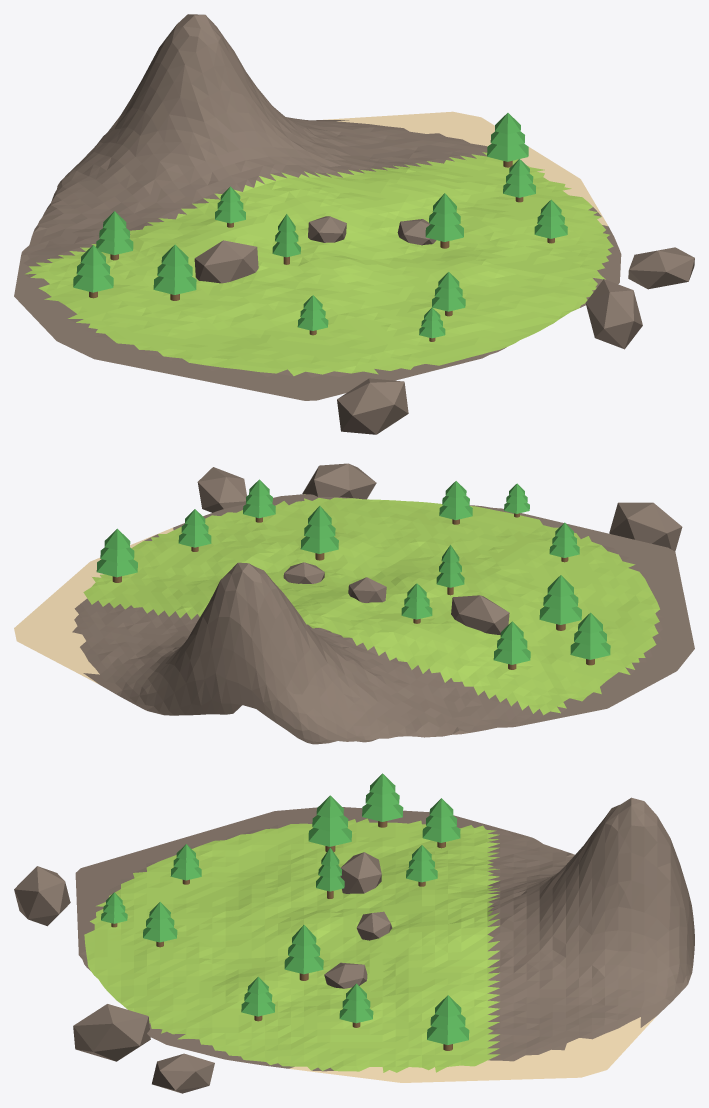
3 renders of one model, top to bottom at view 1: azimuth 30°, elevation 25°; view 2: azimuth 150°, elevation 25°; view 3: azimuth 270°, elevation 25°, orthographic. The views are drawn at different scales.
Parts seen in each view (by area): view 1: Island, CoastBoulder_01, CoastBoulder_03, CoastBoulder_00, CoastBoulder_04, TreeA_09, TreeA_108, TreeA_109, TreeA_14, TreeA_110, TreeA_106, TreeA_104 (+6 smaller); view 2: Island, CoastBoulder_01, CoastBoulder_03, CoastBoulder_00, CoastBoulder_04, TreeA_09, TreeA_108, TreeA_109, TreeA_14, TreeA_110, TreeA_106, TreeA_100 (+7 smaller); view 3: Island, CoastBoulder_03, CoastBoulder_01, CoastBoulder_04, TreeA_09, TreeA_108, TreeA_109, TreeA_14, CoastBoulder_00, TreeA_110, TreeA_106, TreeA_104 (+7 smaller).
Boxes of the visible parts, <box> form: Island: <box>14,14,621,400</box>; CoastBoulder_01: <box>337,378,408,434</box>; CoastBoulder_03: <box>585,279,642,349</box>; CoastBoulder_00: <box>194,240,258,283</box>; CoastBoulder_04: <box>628,247,694,289</box>; TreeA_09: <box>153,244,196,300</box>; TreeA_108: <box>487,113,528,167</box>; TreeA_109: <box>73,245,113,298</box>; TreeA_14: <box>425,193,463,248</box>; TreeA_110: <box>96,211,133,260</box>; TreeA_106: <box>432,272,465,316</box>; TreeA_104: <box>534,199,567,243</box>; Island: <box>14,494,694,744</box>; CoastBoulder_01: <box>609,502,682,551</box>; CoastBoulder_03: <box>302,463,376,499</box>; CoastBoulder_00: <box>451,595,509,634</box>; CoastBoulder_04: <box>197,467,246,512</box>; TreeA_09: <box>539,575,581,630</box>; TreeA_108: <box>96,528,137,582</box>; TreeA_109: <box>570,612,610,665</box>; TreeA_14: <box>300,506,338,560</box>; TreeA_110: <box>493,621,530,669</box>; TreeA_106: <box>439,481,472,524</box>; TreeA_100: <box>178,509,211,551</box>; Island: <box>75,797,694,1082</box>; CoastBoulder_03: <box>73,1004,150,1061</box>; CoastBoulder_01: <box>14,866,70,926</box>; CoastBoulder_04: <box>152,1053,214,1093</box>; TreeA_09: <box>308,795,351,851</box>; TreeA_108: <box>427,995,469,1050</box>; TreeA_109: <box>362,773,403,827</box>; TreeA_14: <box>284,925,323,980</box>; CoastBoulder_00: <box>340,852,381,893</box>; TreeA_110: <box>422,798,460,848</box>; TreeA_106: <box>143,902,177,947</box>; TreeA_104: <box>241,976,275,1021</box>.
Size of what is drawn, in the model's own units: 188 by 57.3 by 195.
